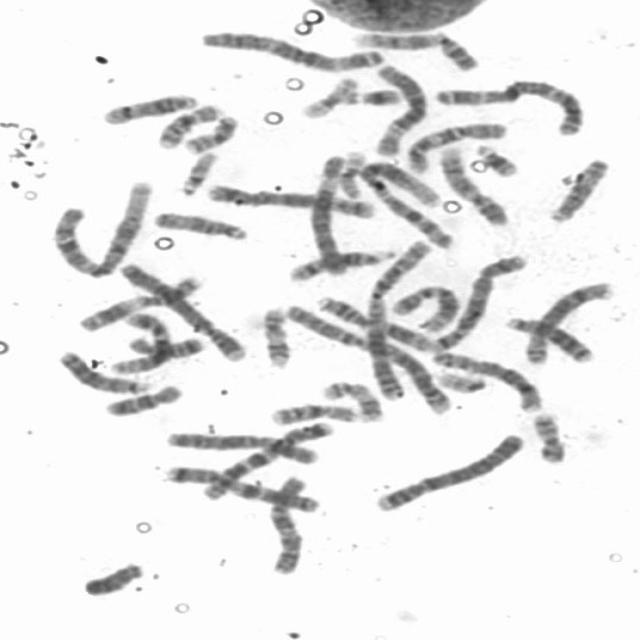A1: (46, 174, 156, 280), (353, 158, 455, 250)
A2: (280, 295, 456, 416), (357, 238, 437, 406)
A3: (429, 74, 590, 137), (196, 24, 389, 73)
B4: (114, 257, 250, 364), (368, 427, 529, 514)
B5: (425, 250, 531, 354), (200, 179, 380, 220)
C10: (400, 117, 510, 175), (264, 470, 312, 576)
C11: (72, 270, 208, 333), (309, 292, 432, 354)
C12: (105, 307, 176, 375), (386, 281, 463, 333)
C6: (367, 59, 432, 158), (306, 152, 354, 276)
C7: (192, 416, 336, 503), (158, 460, 324, 514)
C8: (518, 276, 619, 366), (425, 346, 547, 414)
C9: (432, 142, 514, 228), (348, 26, 482, 72)
D13: (498, 311, 597, 365), (52, 346, 150, 395)
D14: (284, 244, 399, 282), (95, 88, 202, 126)
D15: (542, 153, 611, 224), (148, 205, 252, 243)
E16: (152, 99, 227, 150), (265, 398, 362, 427)
E17: (316, 376, 388, 423), (257, 301, 296, 370)
E18: (98, 379, 186, 418), (123, 332, 207, 361)
F19: (294, 72, 362, 120), (333, 147, 368, 199)
F20: (179, 110, 242, 155), (526, 408, 570, 464)
G21: (469, 139, 522, 178), (341, 83, 405, 107)
G22: (174, 146, 221, 197), (431, 365, 491, 395)
X: (160, 426, 321, 466)
Y: (76, 557, 147, 598)
